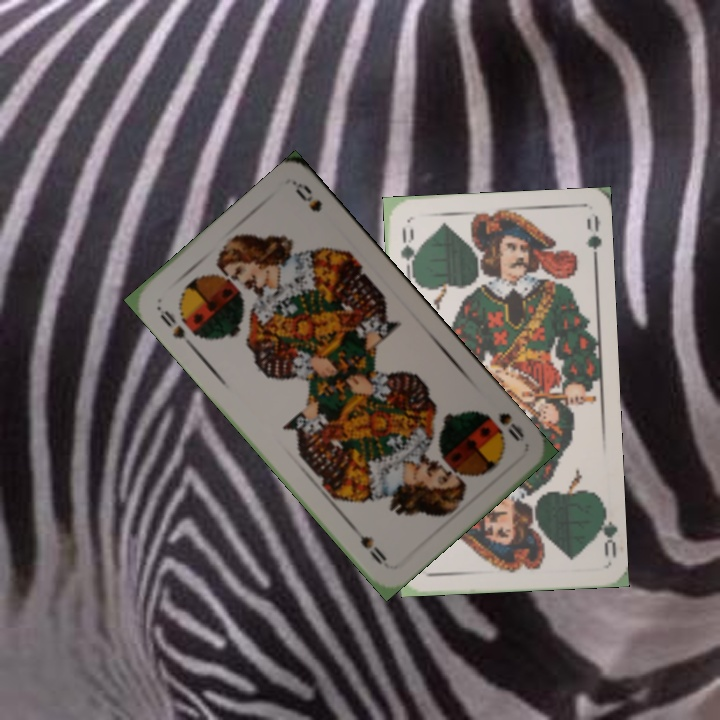GO: (591, 502, 619, 561), (396, 223, 419, 280)
SO: (155, 306, 197, 351), (494, 408, 527, 445)
